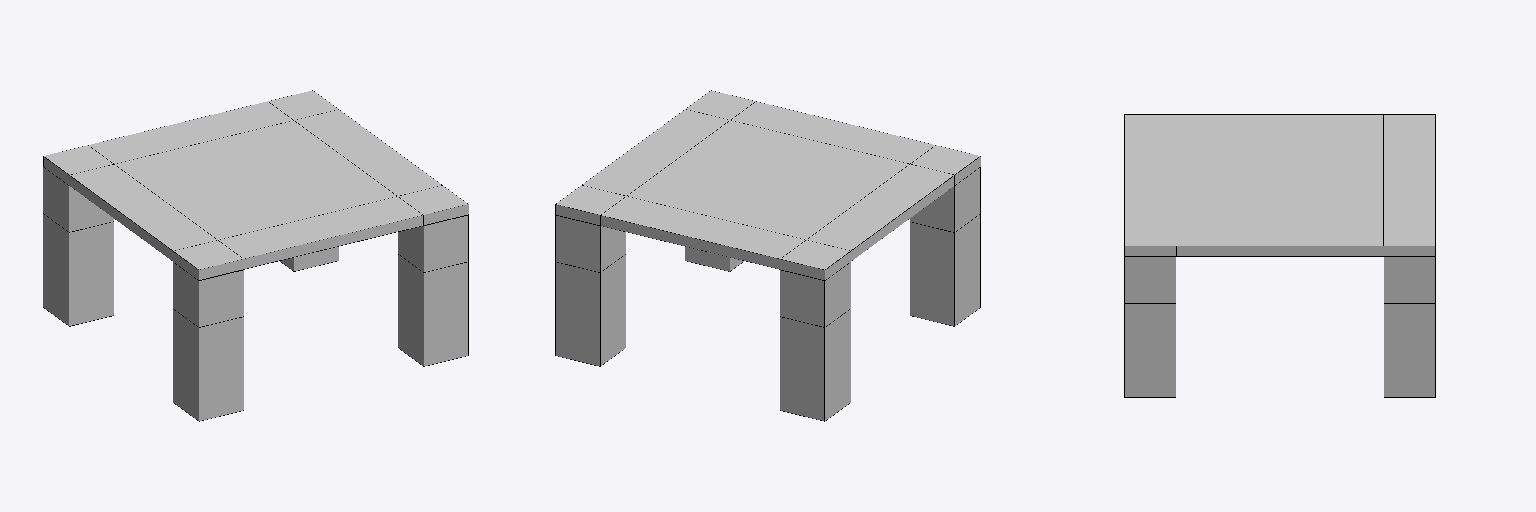
3 renders of one model, left to right at view 1: azimuth 30°, elevation 25°; view 2: azimuth 150°, elevation 25°; view 3: azimuth 270°, elevation 25°, orthographic.
Visible parts, largest first — view 1: table_Cube; view 2: table_Cube; view 3: table_Cube.
Part boxes in pixels (x1,y1,x2,y2): table_Cube: (43,90,468,421); table_Cube: (555,90,980,421); table_Cube: (1124,114,1435,397).
Bounding box in the file's own units: 6 × 3.23 × 6.
1 materials, 1 textured.